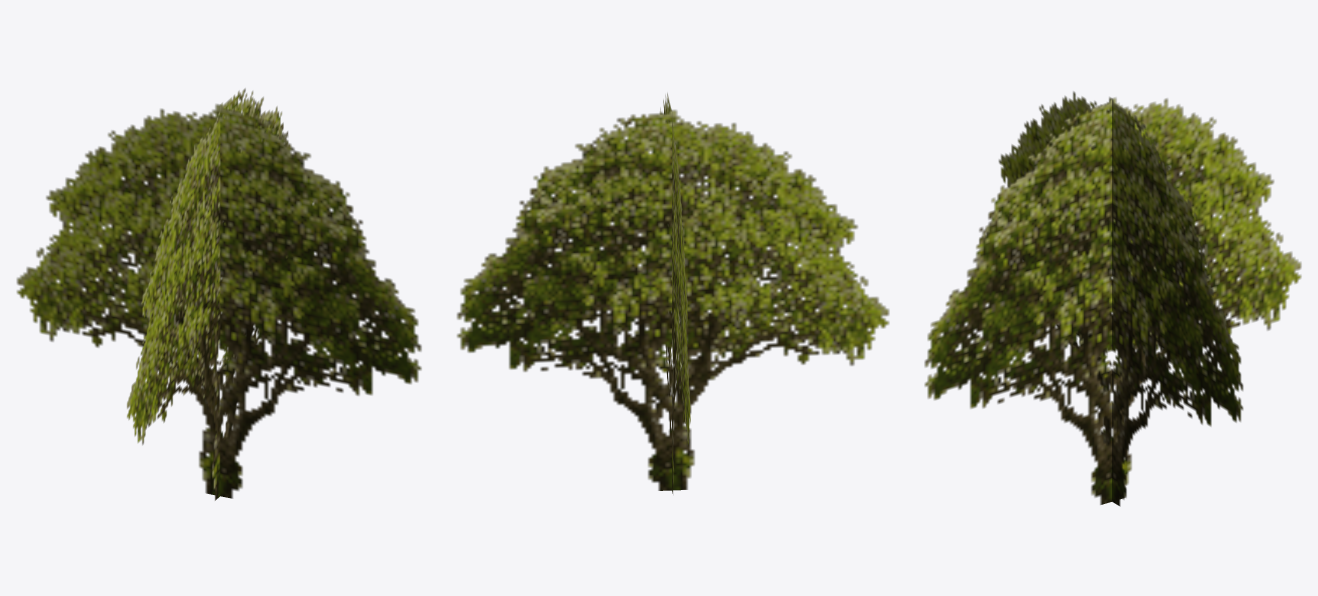
Rendered from tree085.glb.
The picture shows the model from 3 angles, left to right: view 1: azimuth 30°, elevation 25°; view 2: azimuth 150°, elevation 25°; view 3: azimuth 270°, elevation 25°; orthographic projection. The views are drawn at different scales.
Parts seen in each view (by area): view 1: tree085; view 2: tree085; view 3: tree085.
Boxes of the visible parts, left/top/right/bottom form: tree085: left=16, top=88, right=421, bottom=500; tree085: left=457, top=93, right=889, bottom=493; tree085: left=924, top=91, right=1301, bottom=506.
Bounding box in the file's own units: 2.78 × 3.35 × 2.78.
1 material, 1 textured.
